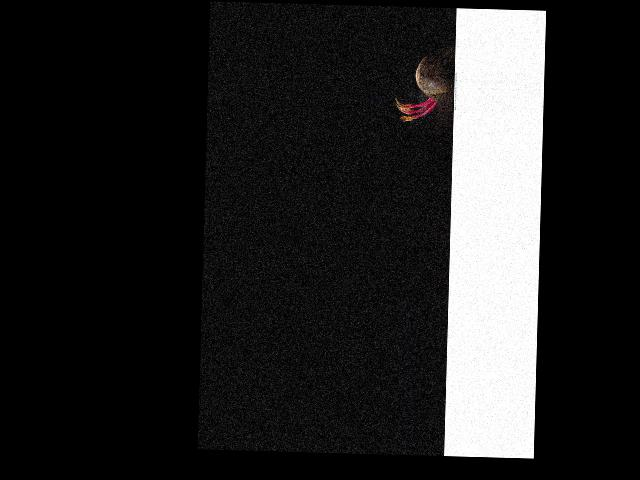beet: (395, 42, 455, 122)
